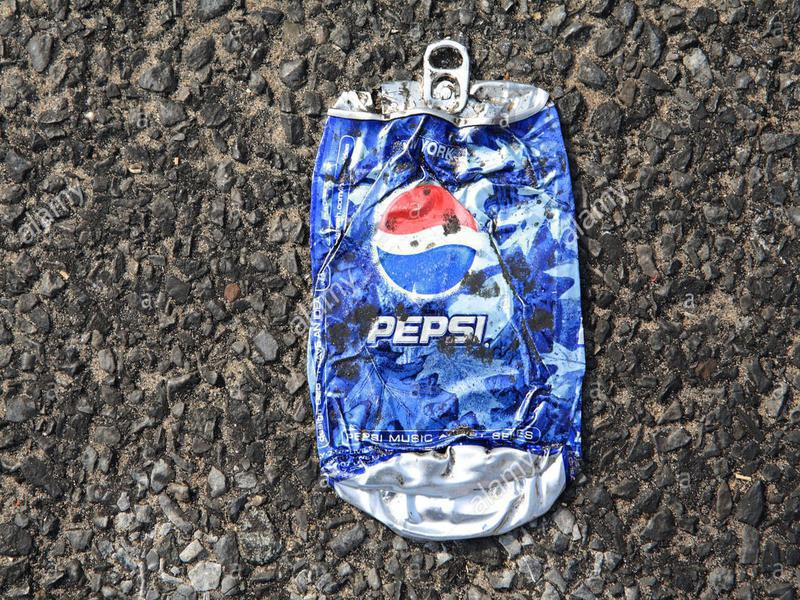can: (280, 38, 605, 549)
